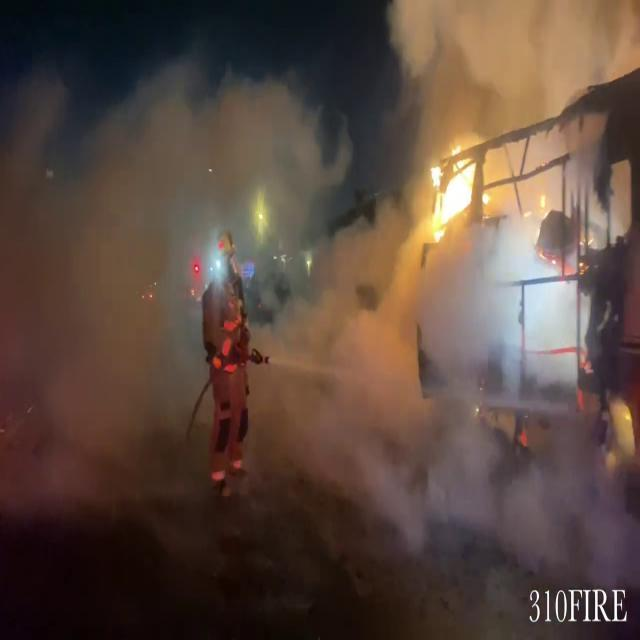Fire: (423, 138, 487, 245)
Smoke: (0, 28, 219, 531), (254, 234, 536, 571), (385, 1, 640, 140)
